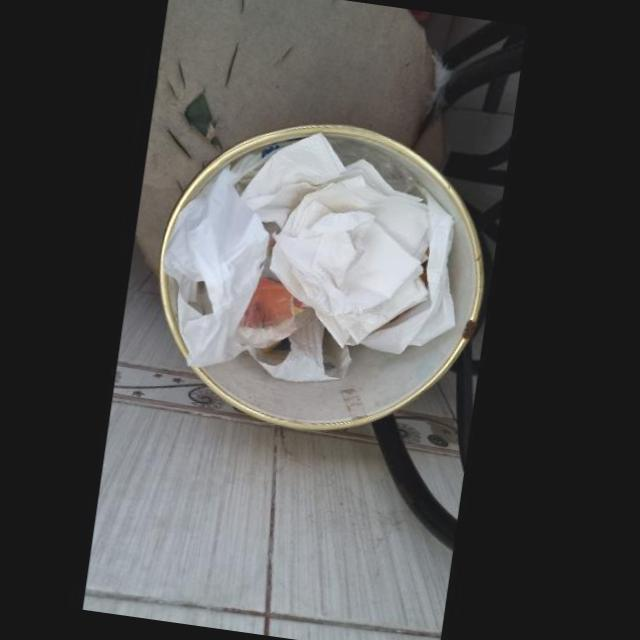giay: (269, 159, 431, 348), (183, 174, 270, 366), (361, 193, 456, 354), (240, 132, 347, 229), (248, 306, 352, 382)
